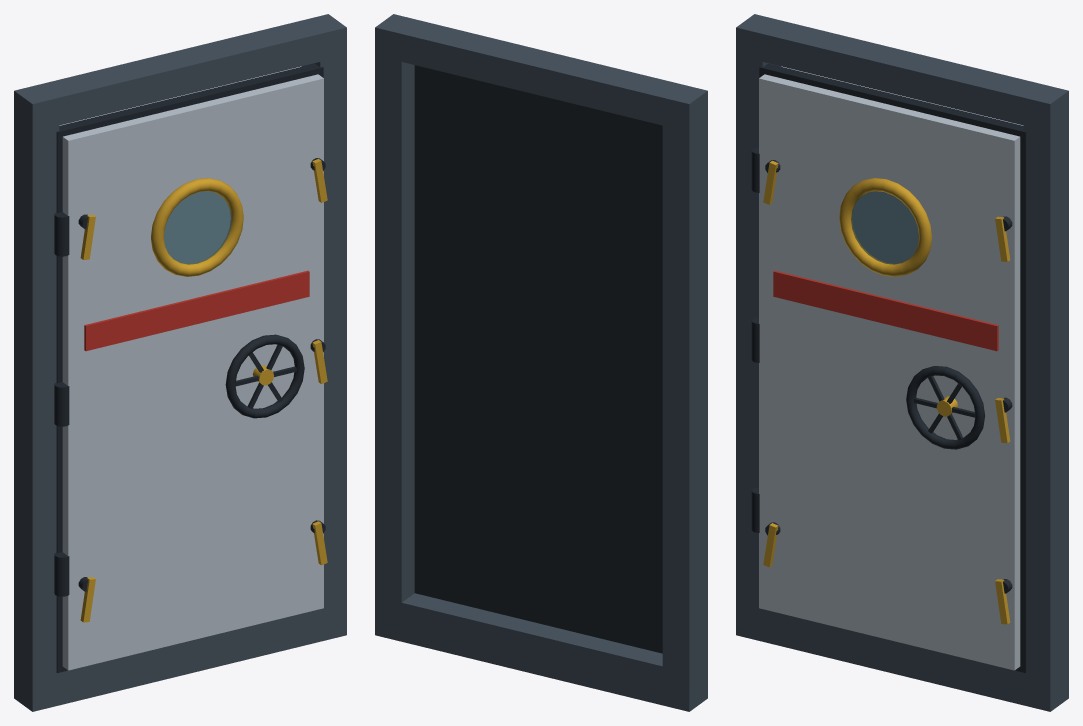
Rendered from watertight-door.glb.
3 renders of one model, left to right at view 1: azimuth 30°, elevation 25°; view 2: azimuth 150°, elevation 25°; view 3: azimuth 330°, elevation 25°, orthographic.
Parts seen in each view (by area): view 1: DoorLeaf, WatertightBulkheadDoor, SillCoaming, Hinge_1, Hinge_2, Hinge_0; view 2: WatertightBulkheadDoor, SillCoaming; view 3: DoorLeaf, WatertightBulkheadDoor, SillCoaming.
Boxes of the visible parts, x1=… form: DoorLeaf: x1=62, y1=74, x2=323, y2=670; WatertightBulkheadDoor: x1=14, y1=14, x2=346, y2=695; SillCoaming: x1=14, y1=599, x2=346, y2=711; Hinge_1: x1=54, y1=382, x2=69, y2=426; Hinge_2: x1=54, y1=212, x2=69, y2=256; Hinge_0: x1=54, y1=552, x2=69, y2=596; WatertightBulkheadDoor: x1=375, y1=14, x2=707, y2=695; SillCoaming: x1=375, y1=593, x2=707, y2=711; DoorLeaf: x1=759, y1=74, x2=1020, y2=670; WatertightBulkheadDoor: x1=736, y1=14, x2=1068, y2=695; SillCoaming: x1=736, y1=597, x2=1068, y2=711.
Size of the model in its own units: 1.18 by 2.18 by 0.2102.
